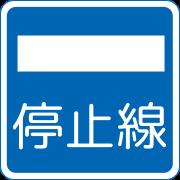Stop: (4, 3, 174, 176)
